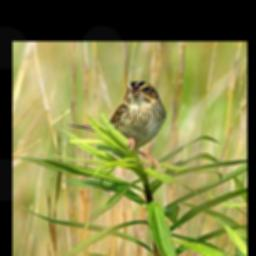Sparrow: (66, 78, 167, 175)
